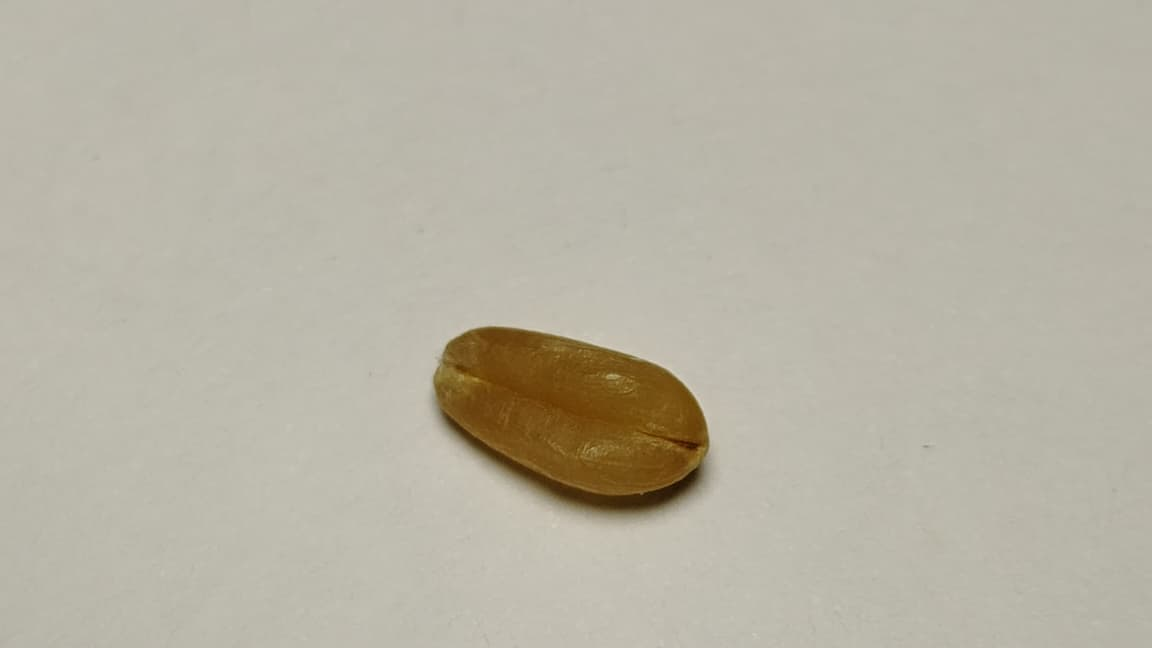healthy: (434, 327, 706, 495)
